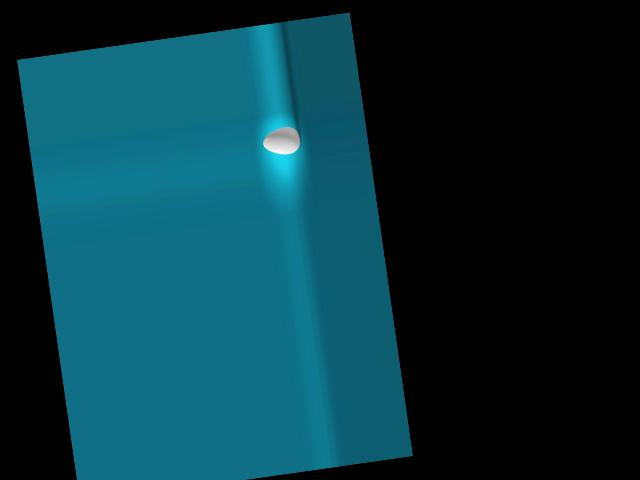egg: (261, 124, 302, 157)
